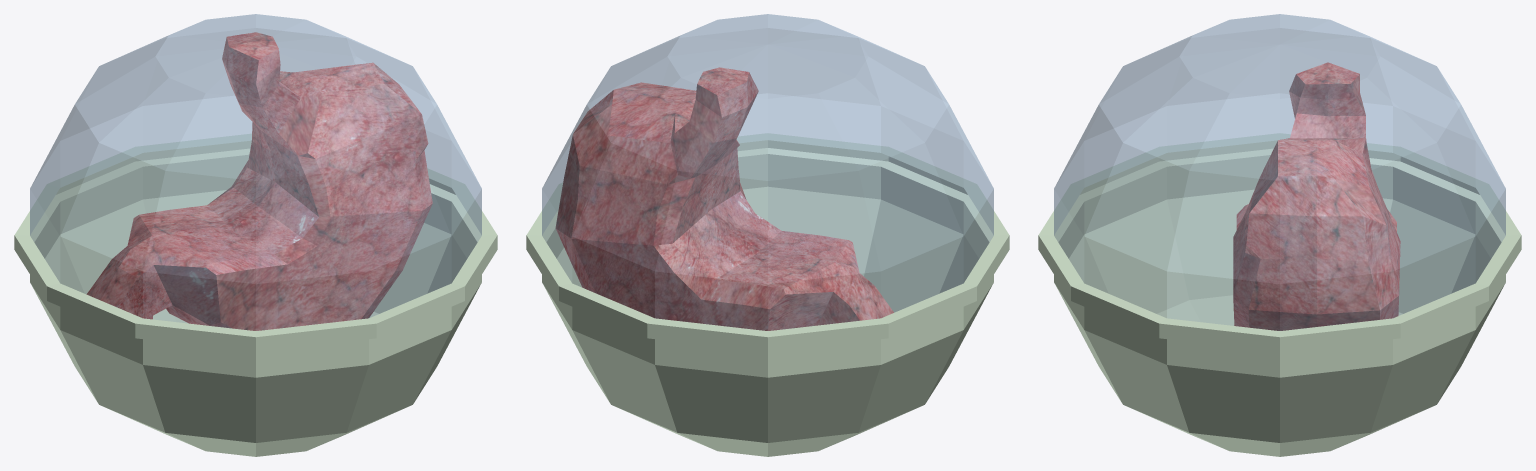
Rendered from stomachGacha.fbx.
3 renders of one model, left to right at view 1: azimuth 30°, elevation 25°; view 2: azimuth 150°, elevation 25°; view 3: azimuth 270°, elevation 25°, orthographic.
Parts seen in each view (by area): view 1: Top, Sphere, stomach; view 2: Top, Sphere, stomach; view 3: Top, Sphere, stomach.
Boxes of the visible parts, left/top/right/bottom form: Top: left=30, top=14, right=481, bottom=330; Sphere: left=14, top=134, right=497, bottom=456; stomach: left=87, top=32, right=432, bottom=330; Top: left=542, top=14, right=993, bottom=330; Sphere: left=526, top=133, right=1009, bottom=456; stomach: left=555, top=67, right=893, bottom=330; Top: left=1054, top=14, right=1505, bottom=330; Sphere: left=1038, top=133, right=1521, bottom=456; stomach: left=1233, top=62, right=1400, bottom=330.
Size of the model in its own units: 295 by 257 by 295.
